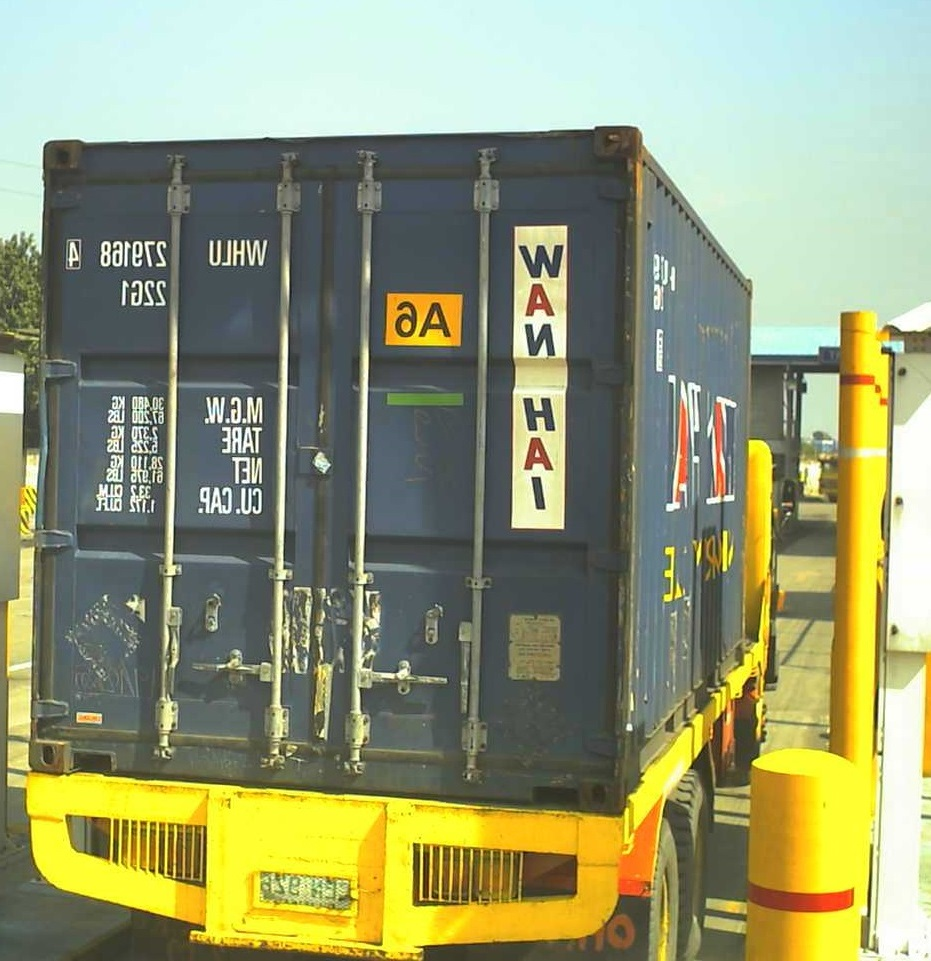container_door: (24, 124, 642, 780)
